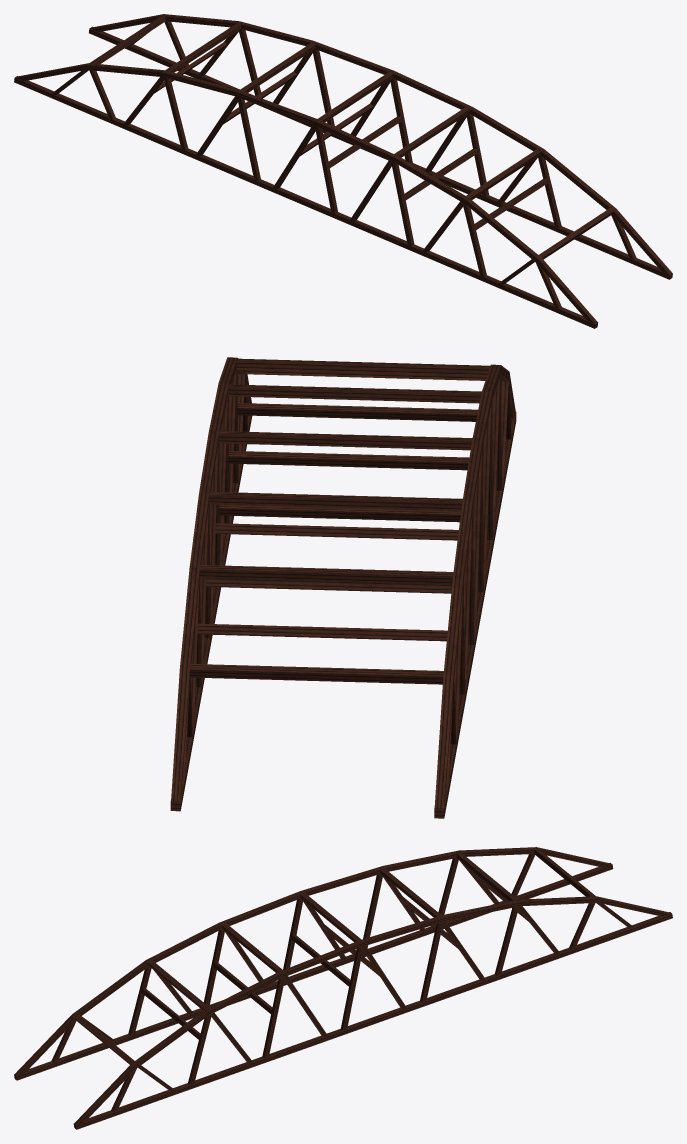
The model's file is tunnel_2.fbx.
3 renders of one model, top to bottom at view 1: azimuth 30°, elevation 25°; view 2: azimuth 150°, elevation 25°; view 3: azimuth 270°, elevation 25°, orthographic. The views are drawn at different scales.
Parts seen in each view (by area): view 1: S2_MetalBridge1; view 2: S2_MetalBridge1; view 3: S2_MetalBridge1.
Boxes of the visible parts, box(x1,y1,x2,y2) form: S2_MetalBridge1: box(14, 14, 672, 328); S2_MetalBridge1: box(170, 357, 516, 818); S2_MetalBridge1: box(14, 847, 672, 1129).
Bounding box in the file's own units: 2617 × 913 × 4054.
